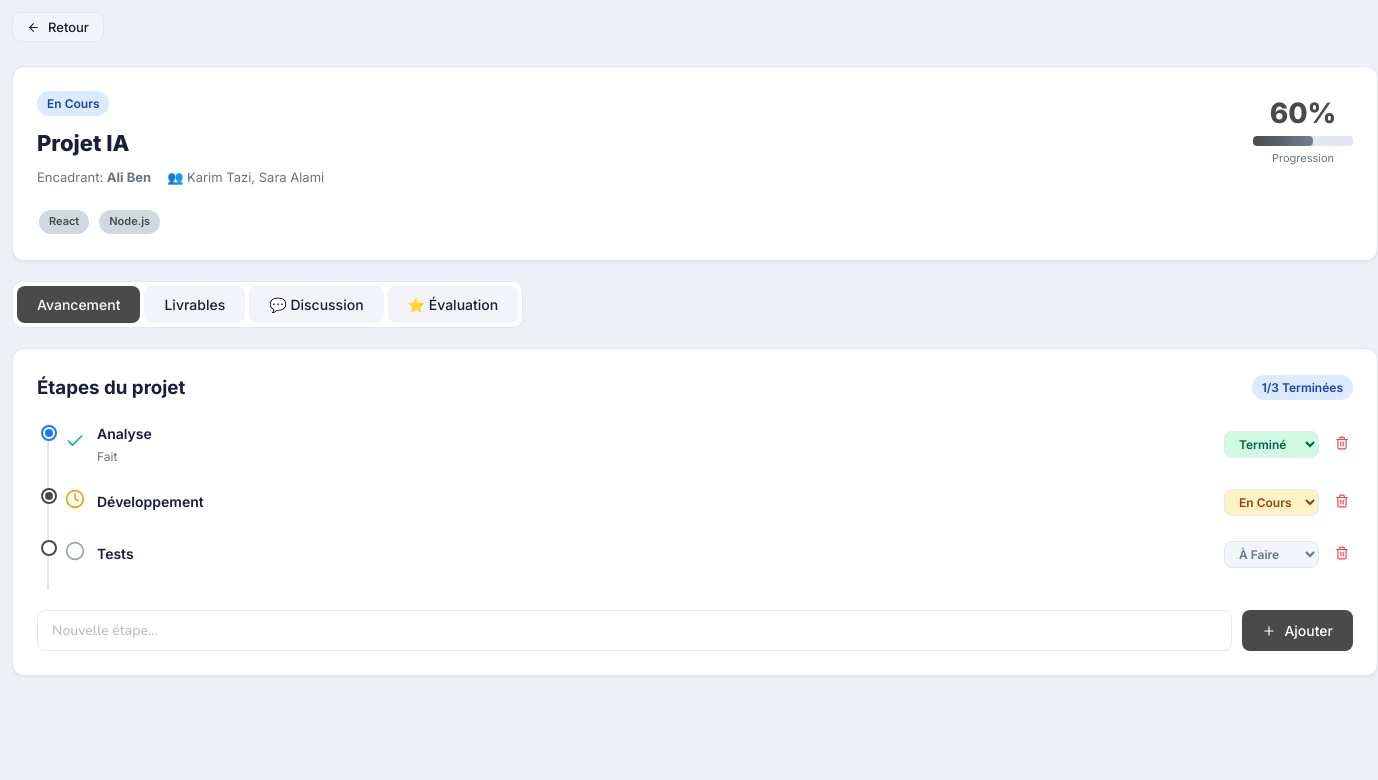
Test case: ProjectDetailPage - Evaluation Tab › shows empty state when no evaluation
Expected: the heading "Projet IA" is shown, [37,130,130,156]
Step 1. Click the button "⭐ Évaluation" → (453, 304), box [388,286,518,323]
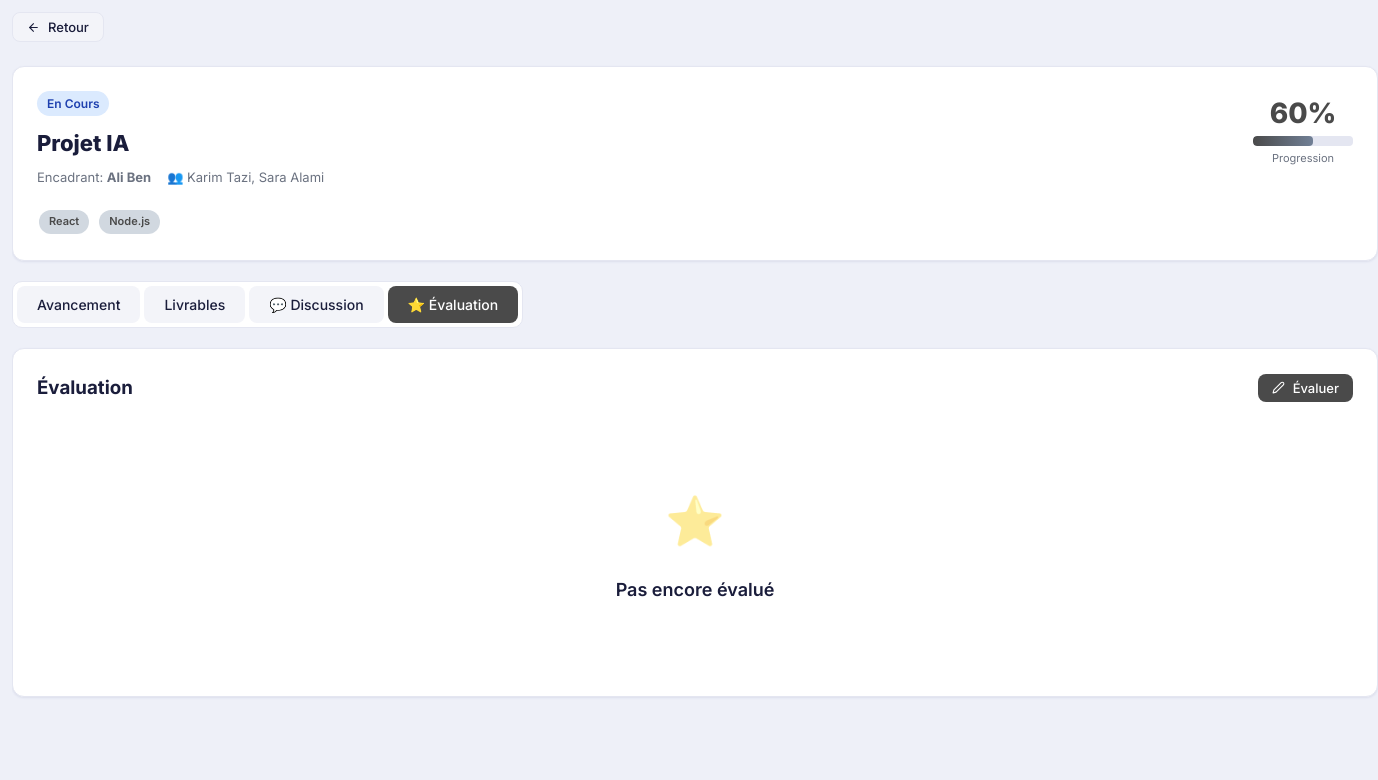
Expected: the text "Pas encore évalué" is shown, [616,578,774,600]
